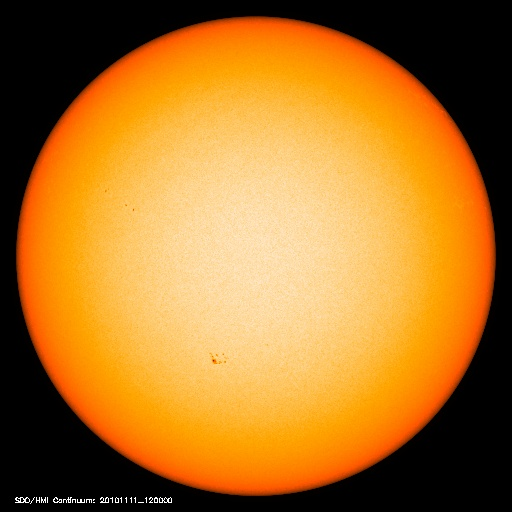sunspot: (93, 180, 141, 217), (199, 343, 237, 368)
